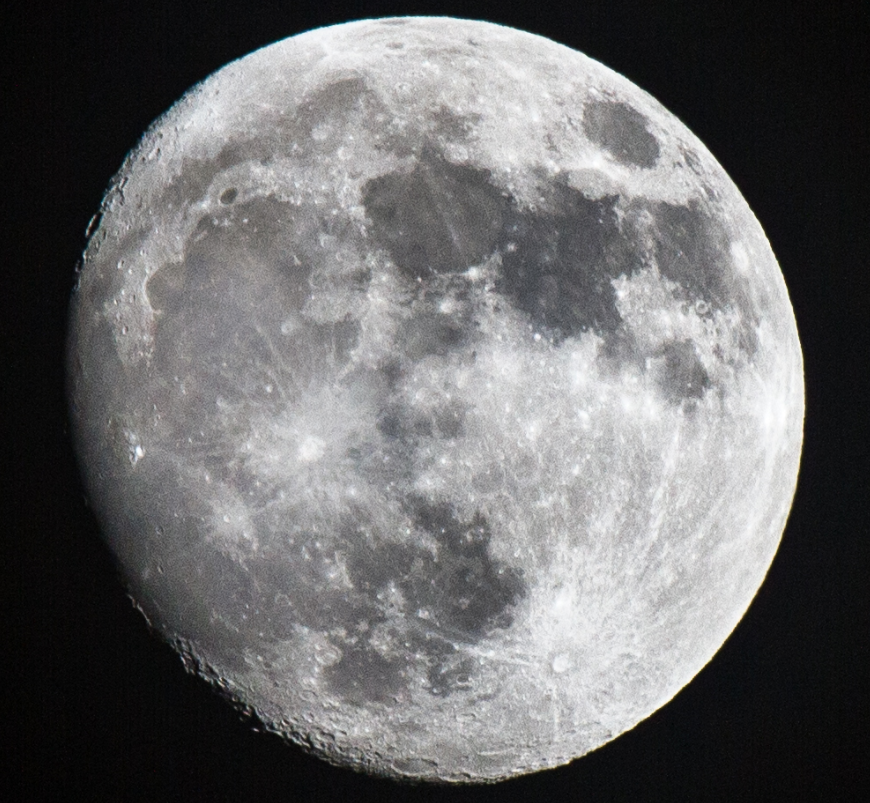crater: (459, 557, 639, 721), (226, 371, 392, 526), (192, 157, 268, 230), (301, 627, 365, 675), (295, 261, 338, 311), (371, 33, 423, 66), (112, 320, 148, 351), (151, 554, 180, 584), (690, 290, 714, 323)
